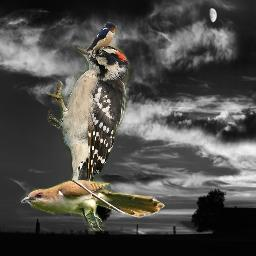Cuckoo: (21, 180, 165, 231)
Swallow: (84, 22, 117, 51)
Woodpecker: (47, 45, 132, 217)
